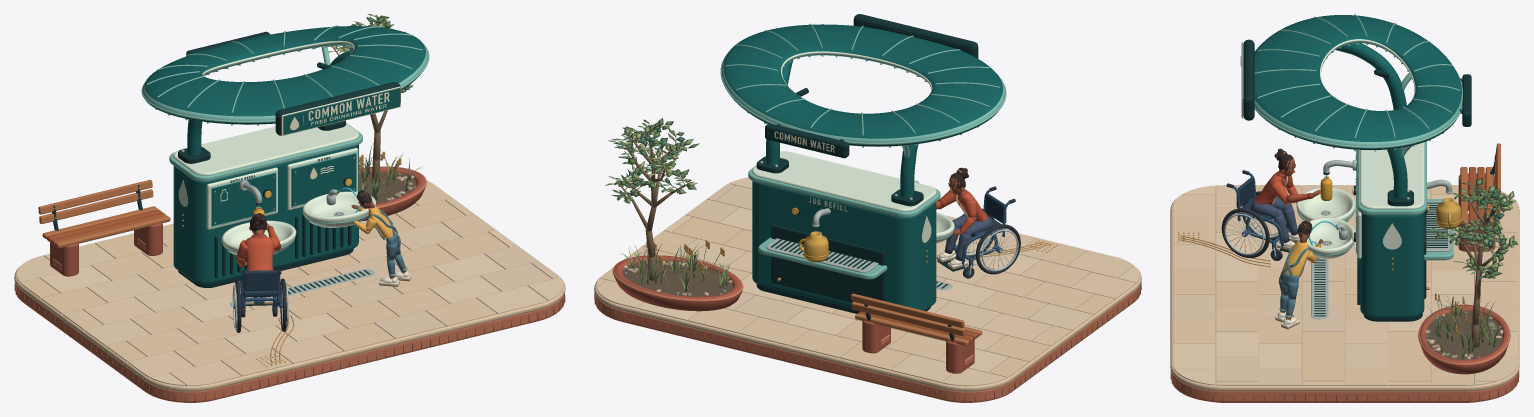
The model's file is common-water.glb.
The picture shows the model from 3 angles, left to right: view 1: azimuth 30°, elevation 25°; view 2: azimuth 150°, elevation 25°; view 3: azimuth 270°, elevation 25°; orthographic projection.
Parts seen in each view (by area): view 1: Limestone plaza, Fountain cabinet and plumbing, Oculus canopy and enamel sign, Bench and rain garden, Manual wheelchair, Drinking fountain | child, Bottle refill | seated visitor; view 2: Limestone plaza, Oculus canopy and enamel sign, Fountain cabinet and plumbing, Bench and rain garden, Manual wheelchair, Bottle refill | seated visitor; view 3: Limestone plaza, Oculus canopy and enamel sign, Fountain cabinet and plumbing, Bench and rain garden, Bottle refill | seated visitor, Manual wheelchair, Drinking fountain | child.
Part boxes in pixels (box(x1,y1,x2,y2)): Limestone plaza: box(14, 180, 565, 402); Fountain cabinet and plumbing: box(169, 122, 375, 287); Oculus canopy and enamel sign: box(141, 25, 429, 163); Bench and rain garden: box(38, 14, 426, 276); Manual wheelchair: box(232, 269, 288, 332); Drinking fountain | child: box(351, 190, 411, 286); Bottle refill | seated visitor: box(236, 205, 281, 304); Limestone plaza: box(594, 177, 1141, 402); Oculus canopy and enamel sign: box(720, 14, 1006, 206); Fountain cabinet and plumbing: box(748, 151, 954, 313); Bench and rain garden: box(605, 118, 982, 373); Manual wheelchair: box(937, 186, 1020, 278); Bottle refill | seated visitor: box(936, 167, 992, 269); Limestone plaza: box(1170, 185, 1519, 402); Oculus canopy and enamel sign: box(1240, 14, 1471, 206); Fountain cabinet and plumbing: box(1296, 141, 1453, 321); Bench and rain garden: box(1418, 143, 1517, 374); Bottle refill | seated visitor: box(1250, 148, 1332, 250); Manual wheelchair: box(1221, 170, 1296, 260); Drinking fountain | child: box(1275, 220, 1323, 329).
Bounding box in the file's own units: 5.64 × 3.11 × 4.13.
